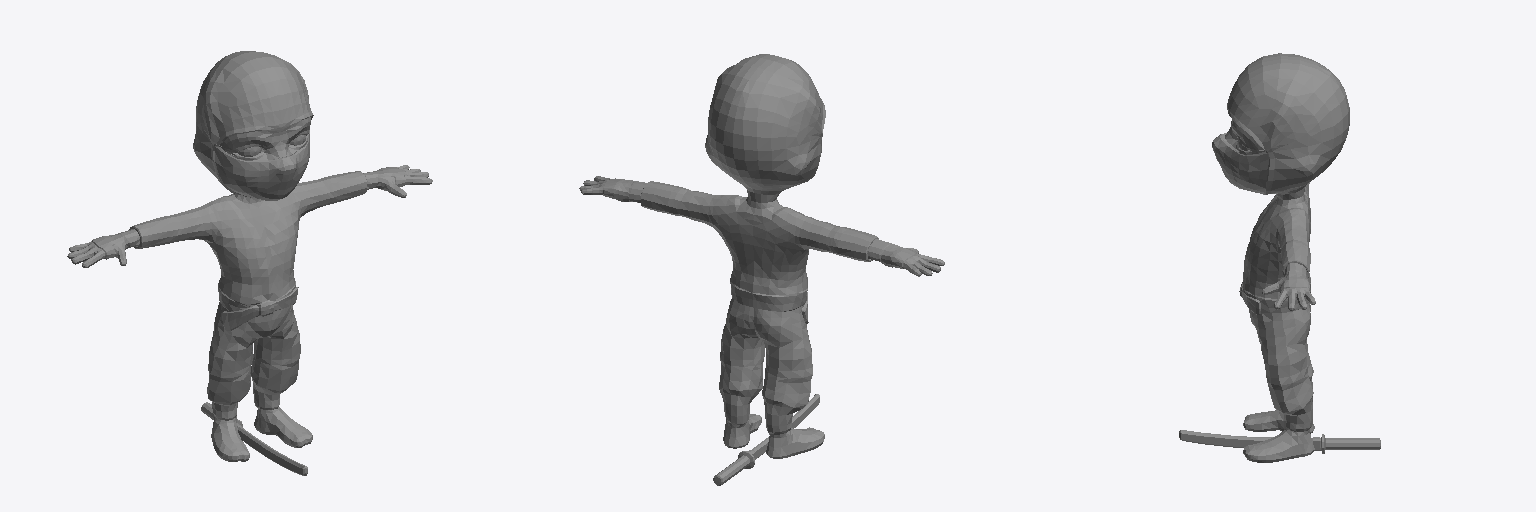
The model's file is KID_NINJA_KATANA.obj.
3 renders of one model, left to right at view 1: azimuth 30°, elevation 25°; view 2: azimuth 150°, elevation 25°; view 3: azimuth 270°, elevation 25°, orthographic.
Parts seen in each view (by area): view 1: KidNinja1, d_katana1; view 2: KidNinja1, katana1, d_katana1; view 3: KidNinja1, d_katana1, katana1.
Boxes of the visible parts, x1=… form: KidNinja1: x1=67, y1=51, x2=432, y2=461; d_katana1: x1=237, y1=423, x2=307, y2=475; KidNinja1: x1=579, y1=54, x2=944, y2=458; katana1: x1=713, y1=451, x2=754, y2=485; d_katana1: x1=748, y1=394, x2=819, y2=459; KidNinja1: x1=1212, y1=53, x2=1349, y2=462; d_katana1: x1=1179, y1=430, x2=1320, y2=450; katana1: x1=1321, y1=434, x2=1380, y2=453.
Bounding box in the file's own units: 62.69 × 66.17 × 30.68.